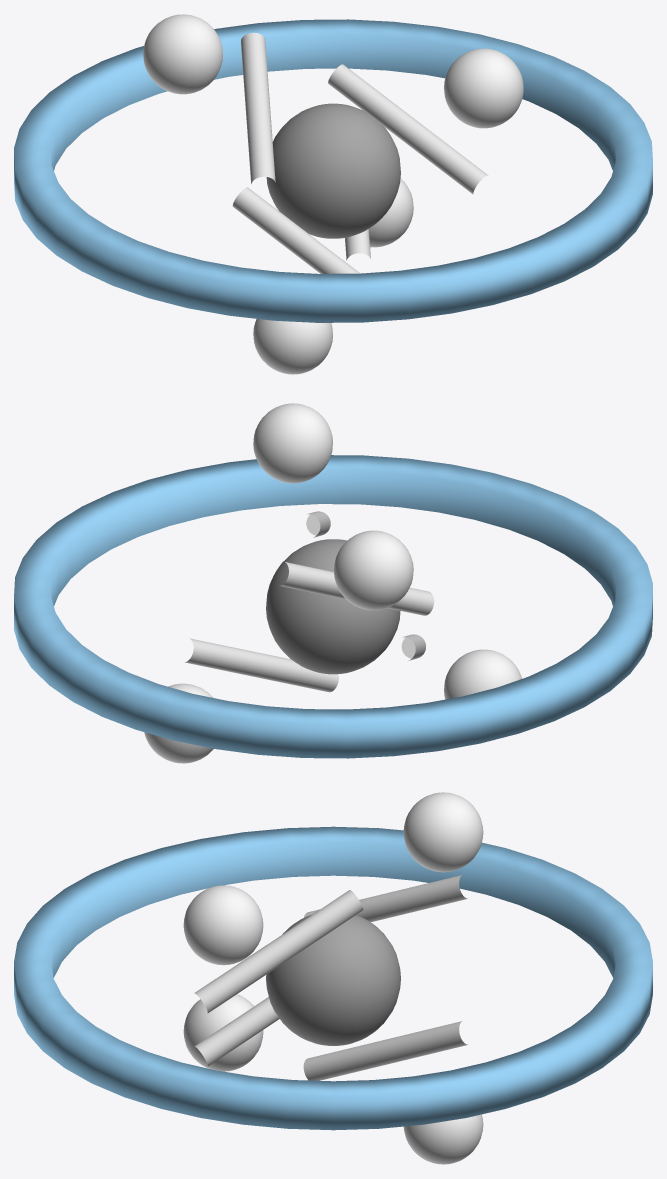
The model's file is methane-molecule.glb.
3 views of the same model, one above another, from view 1: azimuth 30°, elevation 25°; view 2: azimuth 150°, elevation 25°; view 3: azimuth 270°, elevation 25° (orthographic).
Parts seen in each view (by area): view 1: electron_cloud, carbon_atom, hydrogen_3, hydrogen_1, bond_1, bond_3, hydrogen_2, bond_2, hydrogen_4, bond_4; view 2: electron_cloud, carbon_atom, hydrogen_3, hydrogen_1, bond_4, hydrogen_2, bond_3, hydrogen_4; view 3: electron_cloud, carbon_atom, hydrogen_3, hydrogen_1, bond_1, bond_4, hydrogen_2, hydrogen_4, bond_3, bond_2.
Part boxes in pixels (x1=…): electron_cloud: x1=14, y1=19, x2=652, y2=322; carbon_atom: x1=266, y1=103, x2=400, y2=238; hydrogen_3: x1=143, y1=14, x2=222, y2=94; hydrogen_1: x1=444, y1=48, x2=523, y2=128; bond_1: x1=328, y1=64, x2=488, y2=194; bond_3: x1=240, y1=32, x2=275, y2=183; hydrogen_2: x1=253, y1=319, x2=332, y2=374; bond_2: x1=232, y1=187, x2=360, y2=273; hydrogen_4: x1=369, y1=178, x2=413, y2=247; bond_4: x1=345, y1=229, x2=370, y2=260; electron_cloud: x1=14, y1=455, x2=652, y2=758; carbon_atom: x1=266, y1=539, x2=400, y2=674; hydrogen_3: x1=334, y1=530, x2=413, y2=610; hydrogen_1: x1=253, y1=403, x2=332, y2=483; bond_4: x1=185, y1=638, x2=338, y2=692; hydrogen_2: x1=444, y1=649, x2=521, y2=699; bond_3: x1=279, y1=561, x2=434, y2=615; hydrogen_4: x1=144, y1=683, x2=213, y2=763; electron_cloud: x1=14, y1=826, x2=652, y2=1130; carbon_atom: x1=266, y1=915, x2=400, y2=1045; hydrogen_3: x1=403, y1=792, x2=483, y2=872; hydrogen_1: x1=183, y1=885, x2=263, y2=965; bond_1: x1=194, y1=890, x2=363, y2=1013; bond_4: x1=303, y1=1021, x2=468, y2=1080; hydrogen_2: x1=183, y1=994, x2=263, y2=1071; hydrogen_4: x1=403, y1=1114, x2=483, y2=1164; bond_3: x1=304, y1=875, x2=467, y2=922; bond_2: x1=194, y1=997, x2=279, y2=1066.
Bounding box in the file's own units: 1.34 × 0.6298 × 1.34.
